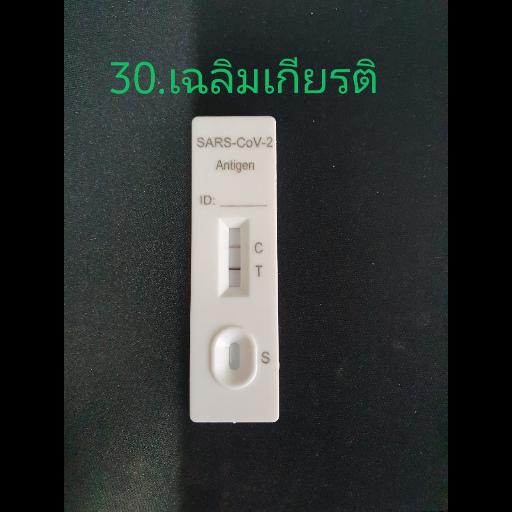Pos: (192, 116, 276, 424)
